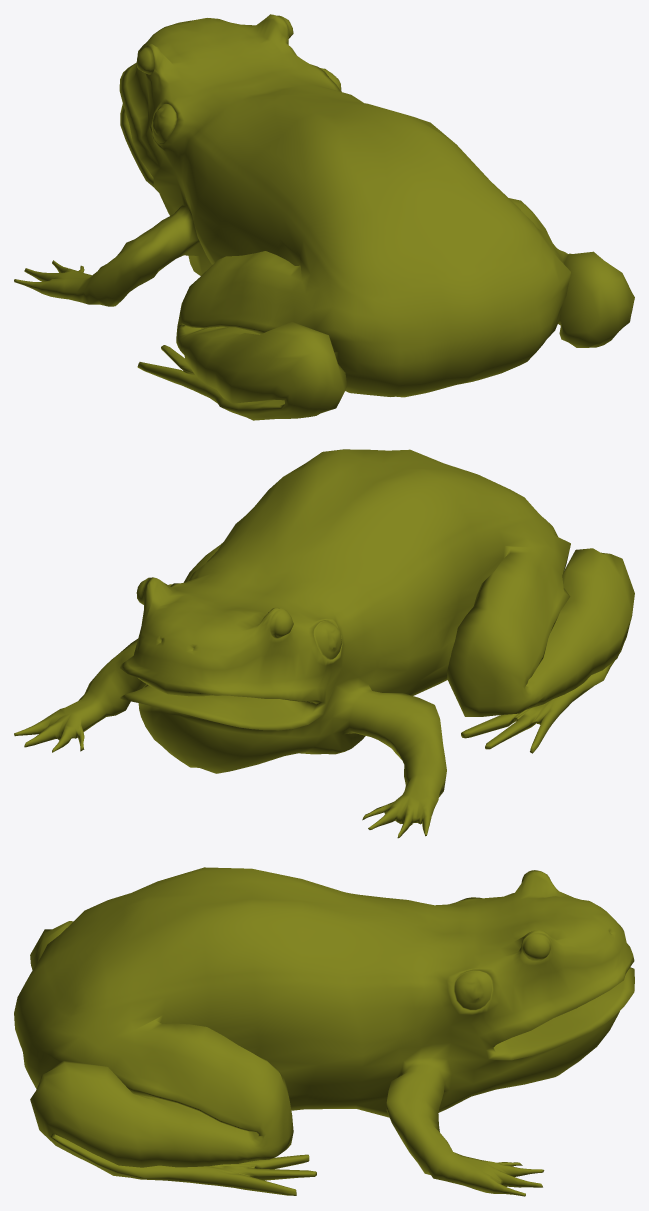
Rendered from frog.fbx.
The picture shows the model from 3 angles, top to bottom: view 1: azimuth 30°, elevation 25°; view 2: azimuth 150°, elevation 25°; view 3: azimuth 270°, elevation 25°; orthographic projection.
Visible parts, largest first — view 1: Frog1; view 2: Frog1; view 3: Frog1.
Boxes of the visible parts, left/top/right/bottom form: Frog1: left=14, top=14, right=634, bottom=420; Frog1: left=14, top=449, right=634, bottom=838; Frog1: left=14, top=867, right=634, bottom=1196.
Bounding box in the file's own units: 9.52 × 4.73 × 12.46.
